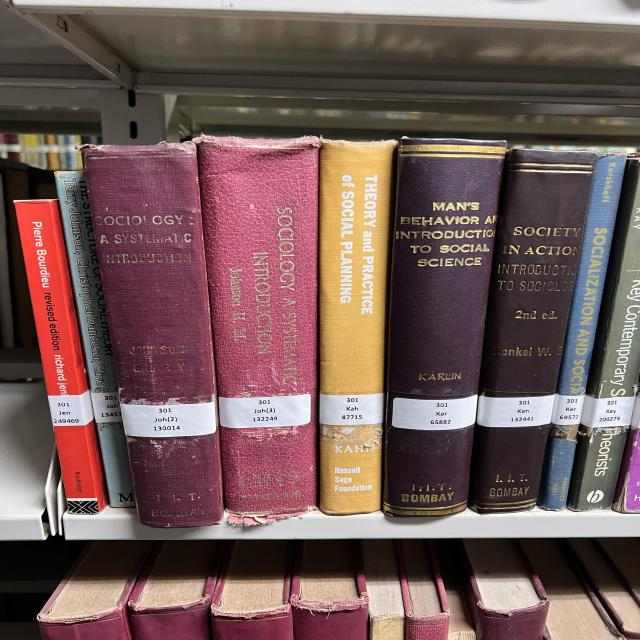Book: (82, 142, 223, 528), (195, 136, 320, 525), (383, 139, 507, 516), (470, 149, 597, 514), (538, 152, 627, 510), (318, 140, 397, 515), (15, 200, 107, 514), (55, 171, 135, 508), (567, 158, 640, 511), (37, 541, 153, 640), (520, 539, 617, 640), (128, 540, 225, 640), (463, 539, 550, 640), (212, 540, 293, 640), (290, 540, 368, 640), (567, 539, 640, 640), (393, 540, 452, 640), (362, 540, 405, 640), (435, 540, 475, 640)
Label: (120, 401, 217, 438), (218, 394, 312, 429), (392, 395, 478, 430), (477, 395, 555, 428), (320, 394, 383, 425), (580, 395, 635, 428), (48, 390, 93, 426), (552, 394, 585, 425), (92, 392, 122, 422)
